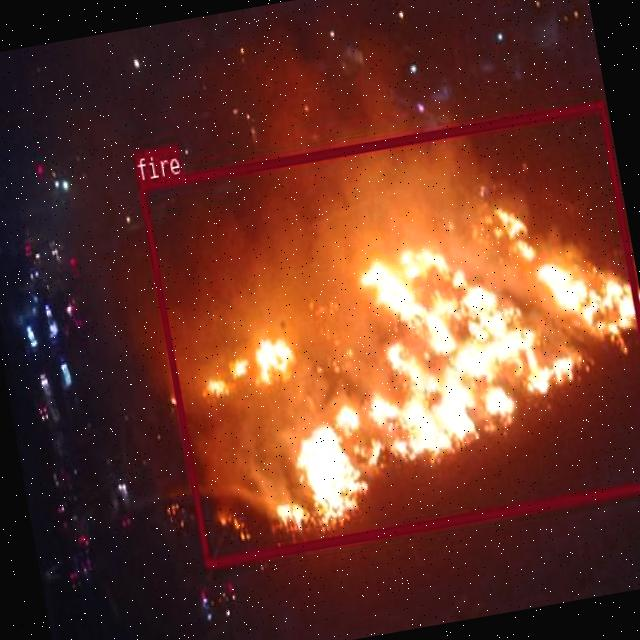fire: (135, 99, 640, 565)
